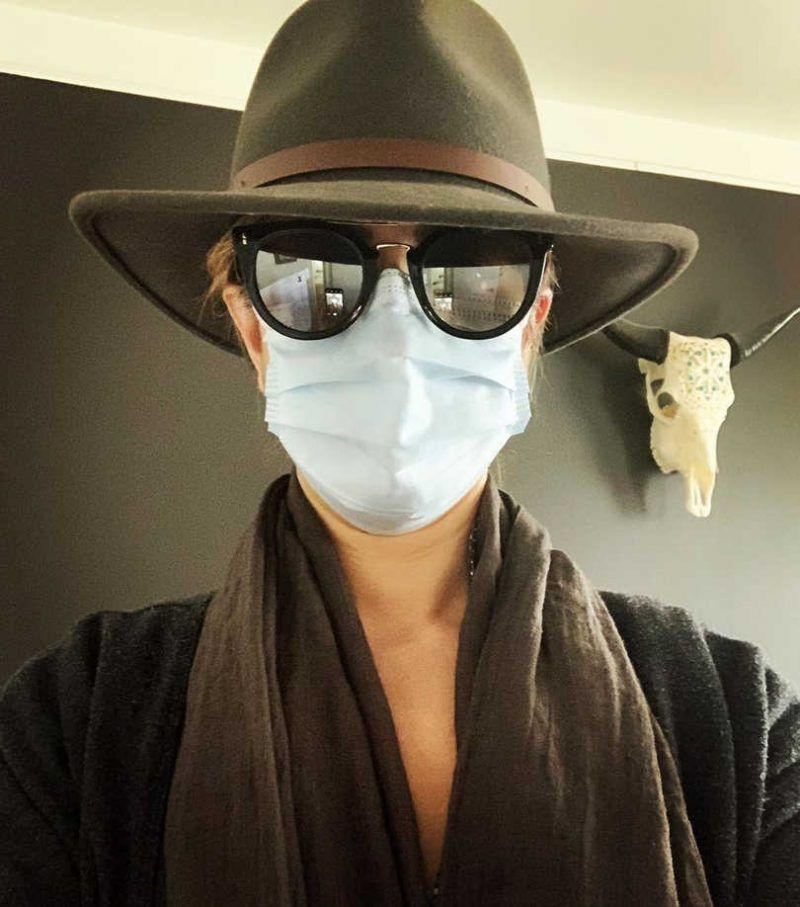cap: (70, 3, 698, 333)
mask: (268, 258, 588, 558)
sunglasses: (225, 200, 583, 353)
